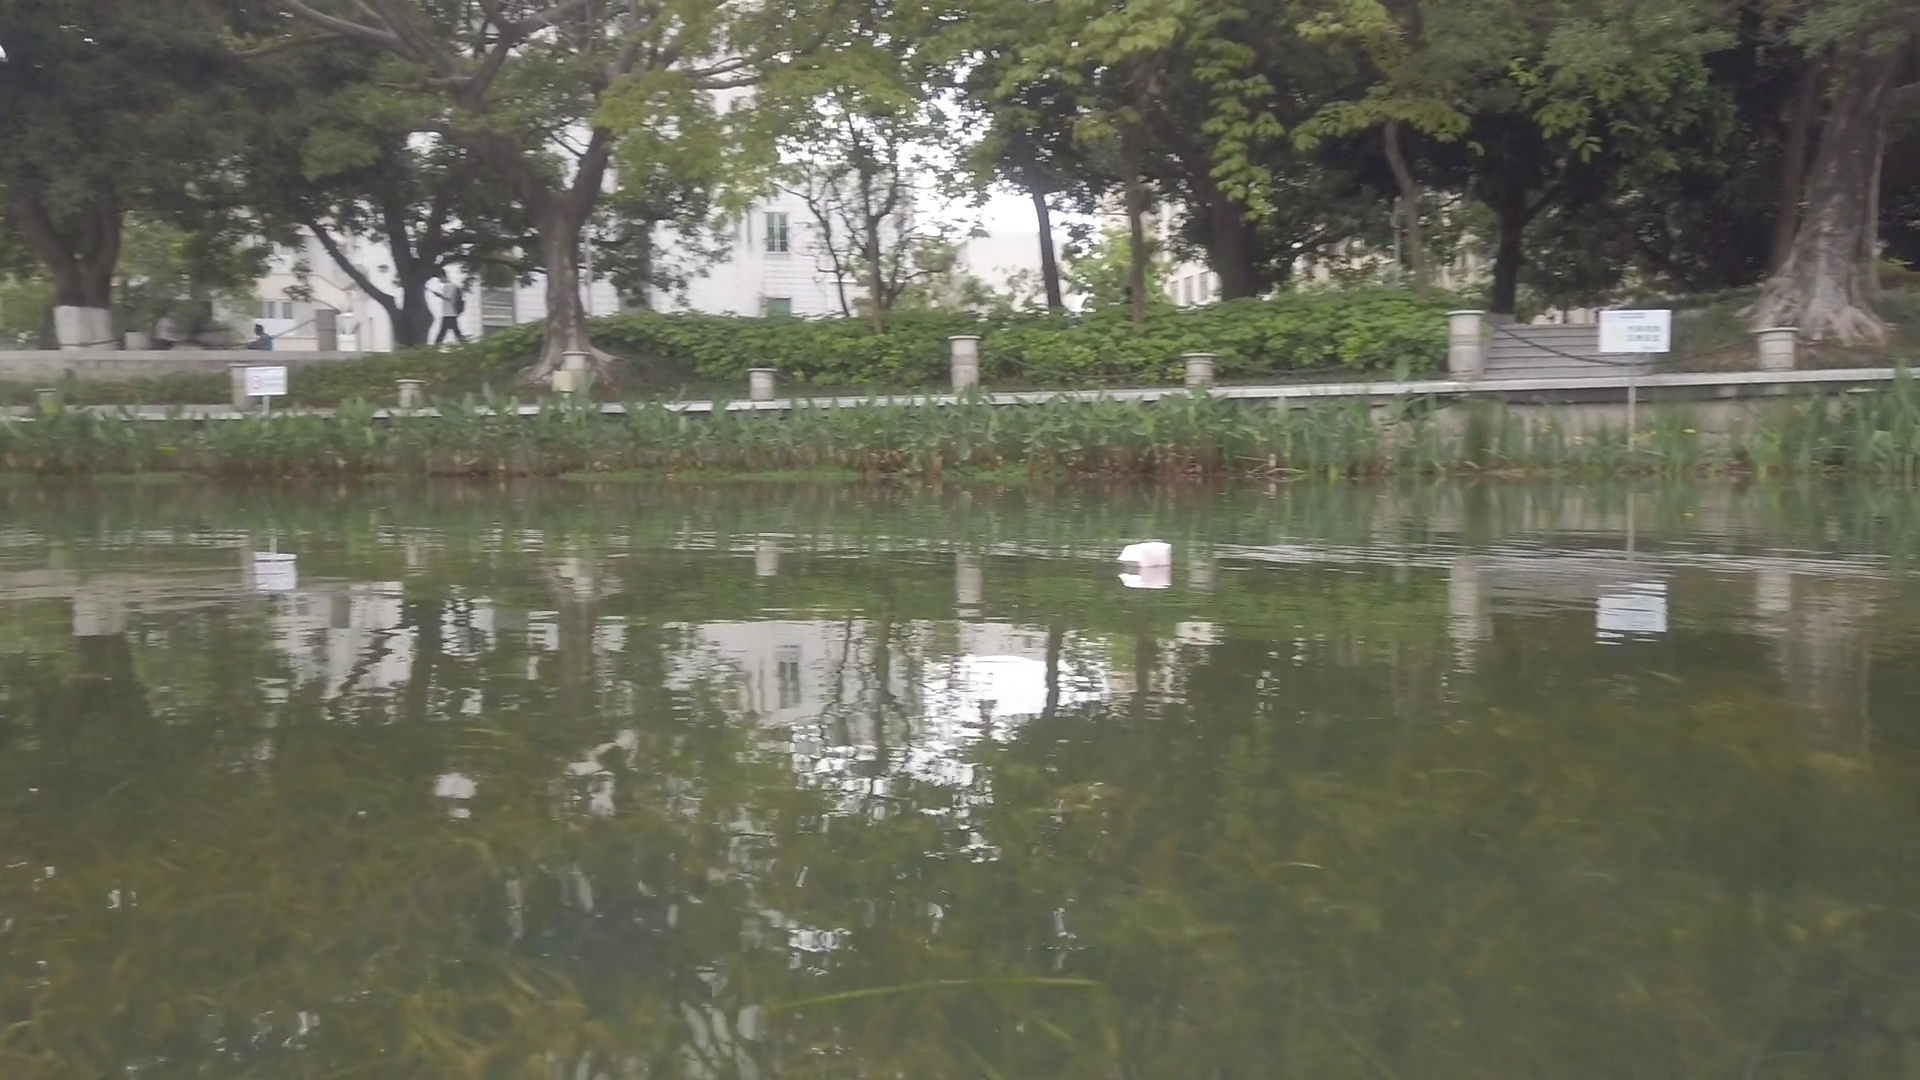carton: (1122, 543, 1175, 566)
